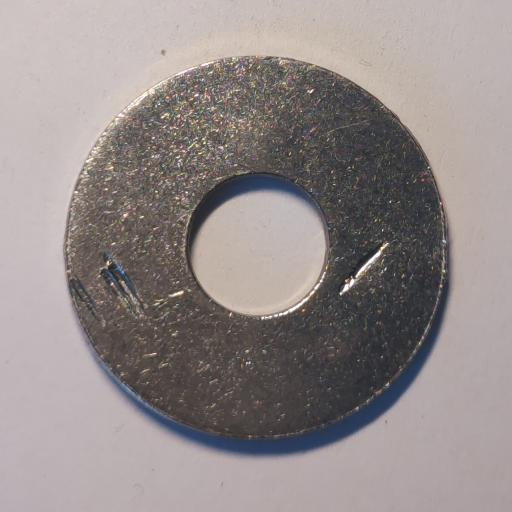scratch: (101, 252, 148, 321), (338, 241, 389, 296), (70, 274, 106, 328)
